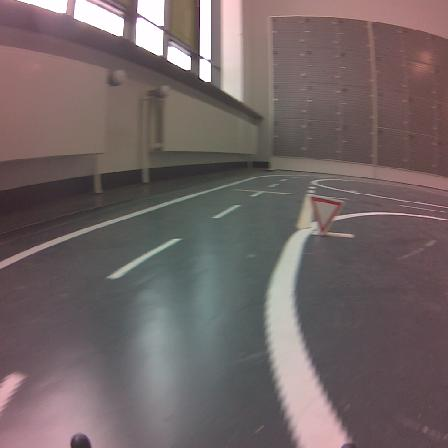GIVE_WAY: (310, 195, 343, 234)
